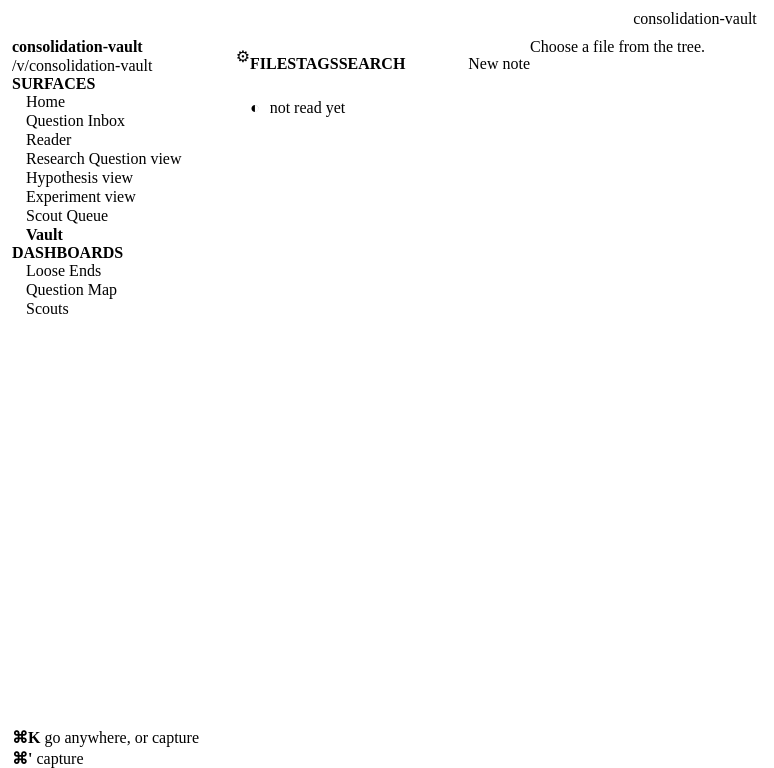
Test case: the tags tab › parses the hierarchy into a tree with inclusive and exclusive counts as vault.tags answers them
Click the tab "tags": coordinates (318, 64) [296,55,339,73]
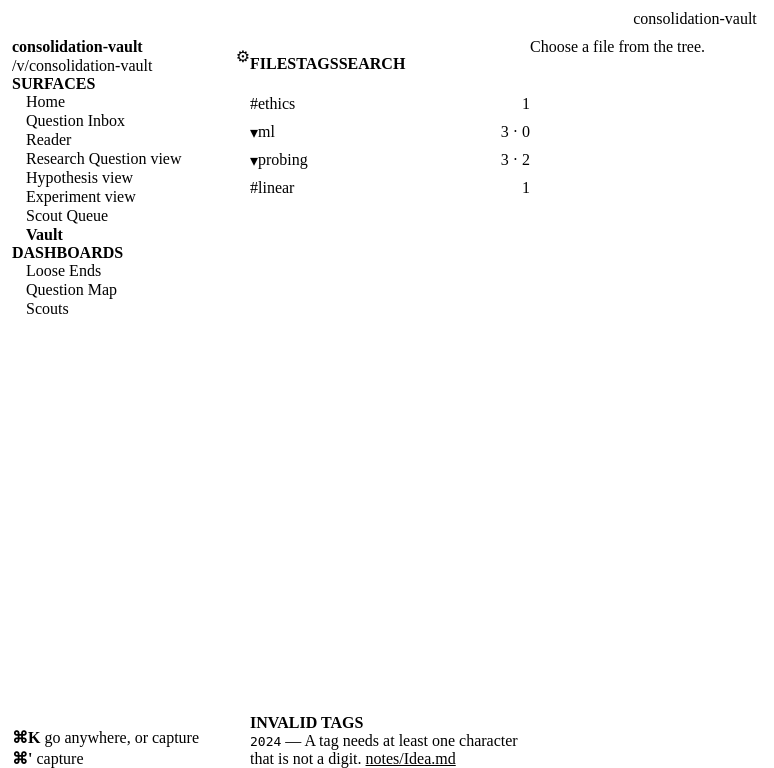
Now the list item with aria-label "probing, 3 in all, 2 at this level" shows "3", box [501,151,509,168]
Now the list item with aria-label "probing, 3 in all, 2 at this level" shows "2", box [509,151,530,168]
